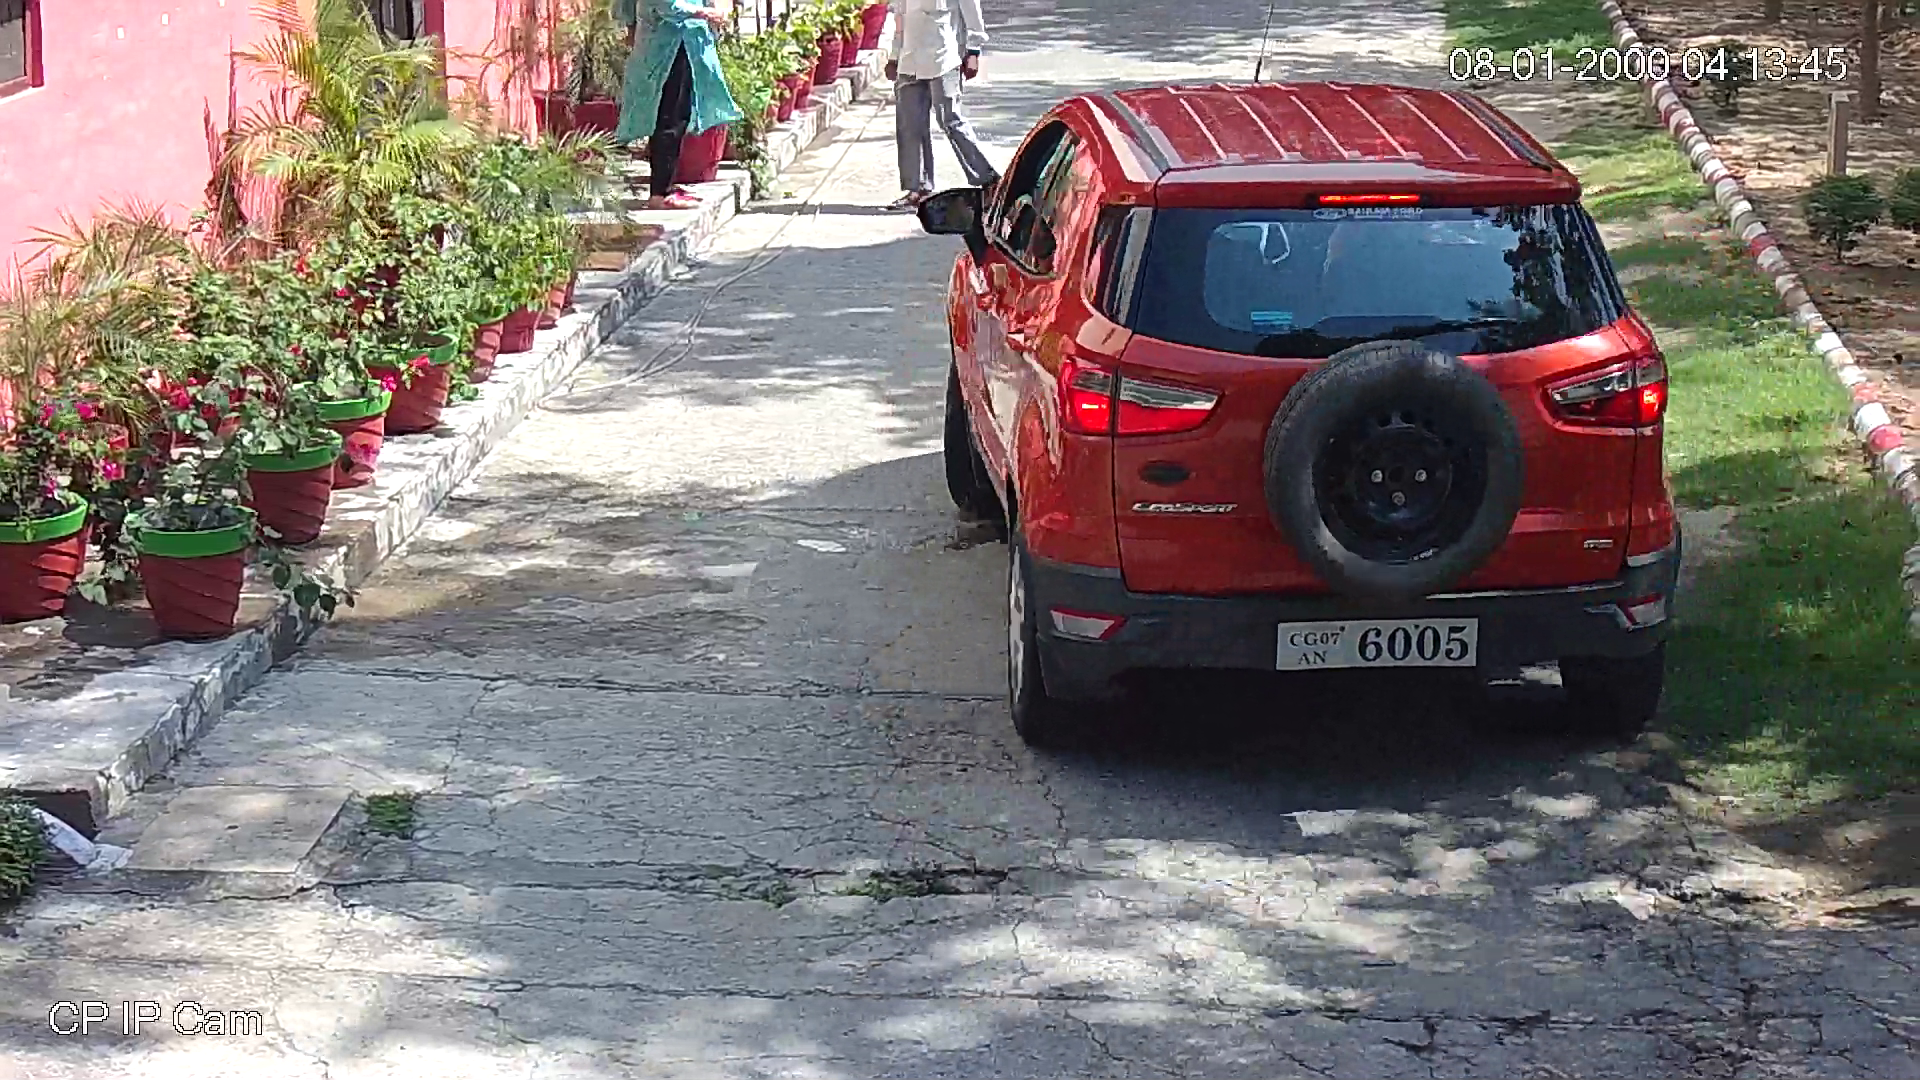plate: (1275, 618, 1485, 672)
